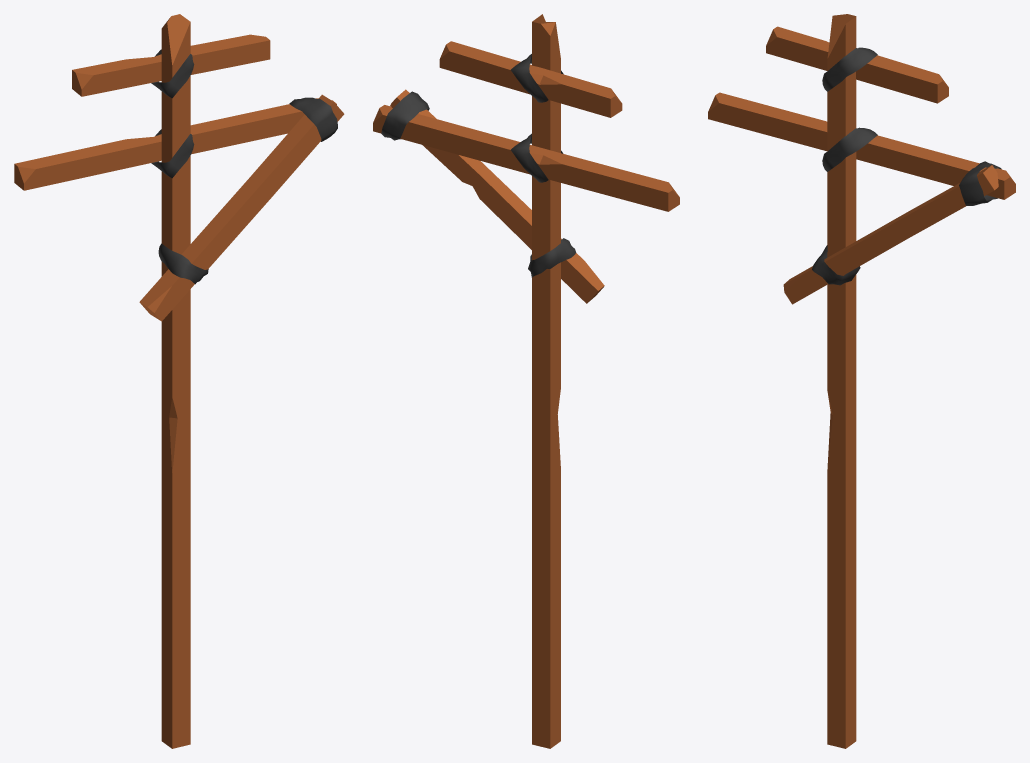
File: lampose5.fbx
3 renders of one model, left to right at view 1: azimuth 30°, elevation 25°; view 2: azimuth 150°, elevation 25°; view 3: azimuth 330°, elevation 25°, orthographic.
Visible parts, largest first — view 1: Case & bulb.002; view 2: Case & bulb.002; view 3: Case & bulb.002.
Part boxes in pixels (x1,y1,x2,y2): Case & bulb.002: (14,14,344,748); Case & bulb.002: (373,14,679,748); Case & bulb.002: (708,14,1015,748).
Bounding box in the file's own units: 244 × 553 × 52.66.
